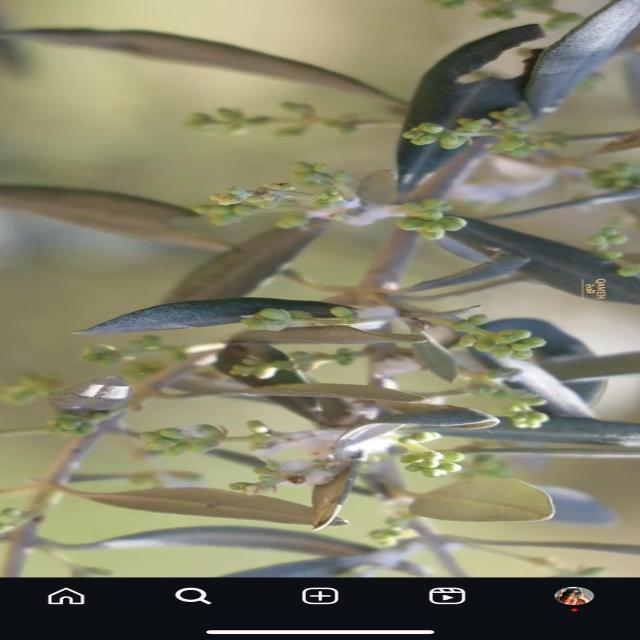Psyllid: (193, 162, 463, 238), (316, 423, 442, 461), (264, 442, 329, 490), (141, 424, 228, 457), (368, 344, 420, 388), (346, 301, 406, 333)
